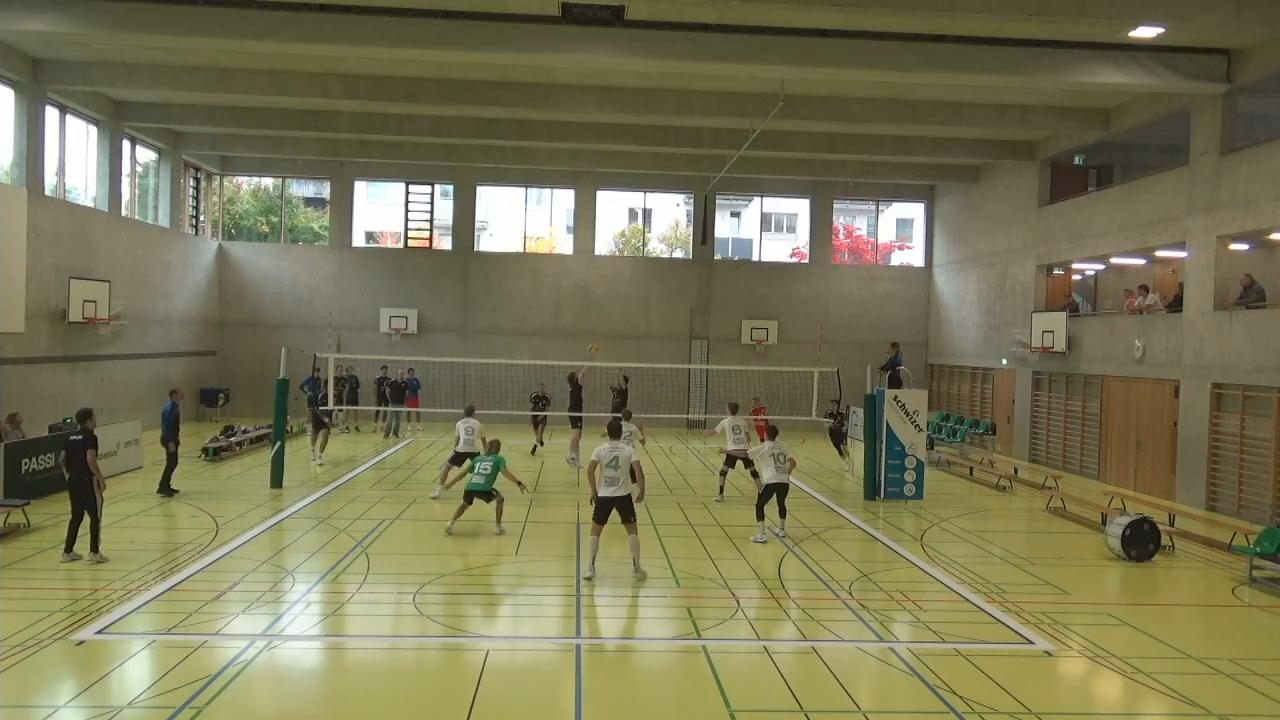Player: (583, 419, 648, 583), (444, 438, 525, 537), (748, 431, 794, 544), (434, 403, 484, 498), (713, 400, 758, 500), (821, 396, 860, 478), (310, 380, 338, 472), (528, 382, 554, 461), (609, 371, 635, 444), (751, 396, 778, 450)
Set: (565, 352, 598, 470)
ball: (587, 342, 600, 357)
